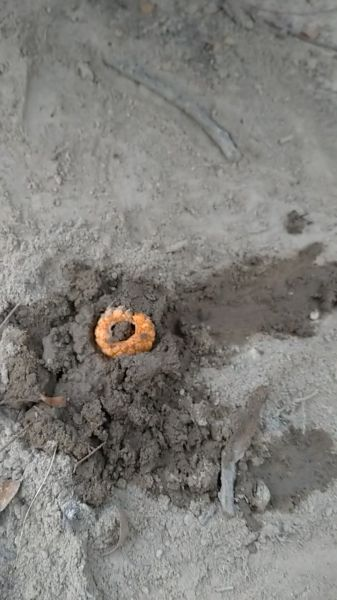eggs: (89, 303, 160, 360)
